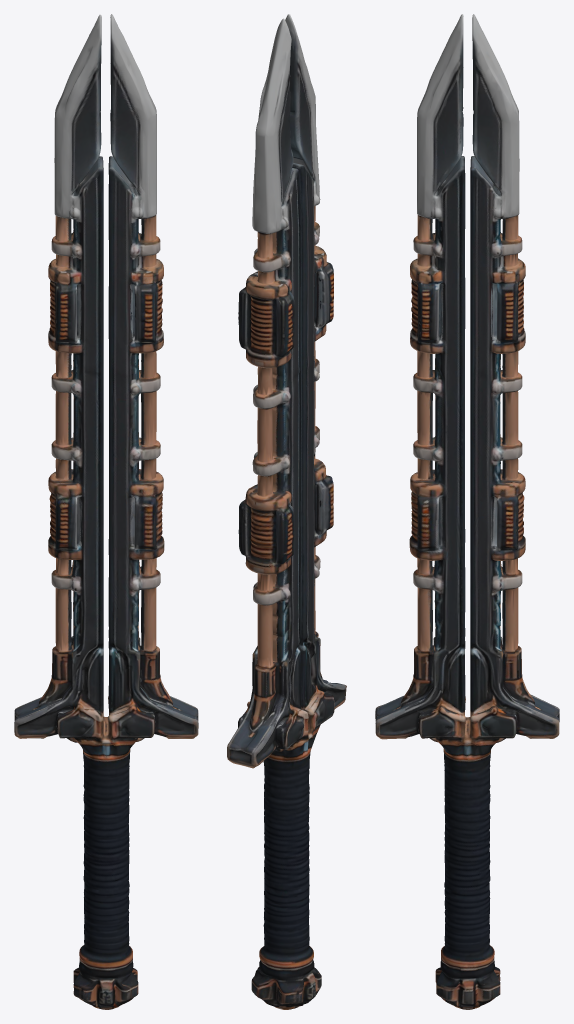
3 views of the same model, side by side, from view 1: azimuth 90°, elevation 25°; view 2: azimuth 150°, elevation 25°; view 3: azimuth 270°, elevation 25° (orthographic).
Visible parts, largest first — view 1: tripo_node_0887bbca-dbaa-47ca-9c81-53b710ffc0f4; view 2: tripo_node_0887bbca-dbaa-47ca-9c81-53b710ffc0f4; view 3: tripo_node_0887bbca-dbaa-47ca-9c81-53b710ffc0f4.
Boxes of the visible parts, x1,y1,x2,y2 form: tripo_node_0887bbca-dbaa-47ca-9c81-53b710ffc0f4: (14,14,198,1009); tripo_node_0887bbca-dbaa-47ca-9c81-53b710ffc0f4: (227,14,346,1009); tripo_node_0887bbca-dbaa-47ca-9c81-53b710ffc0f4: (375,14,559,1009).
Bounding box in the file's own units: 0.0582 × 1 × 0.168.
Materials: 1 (1 with a texture image).
